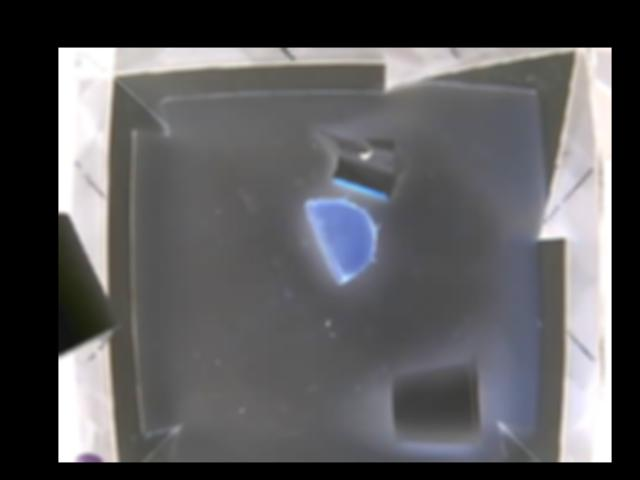China: (318, 130, 410, 201)
Cup: (392, 358, 484, 445)
Potato: (303, 197, 375, 283)
